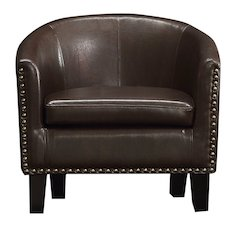chair: (5, 6, 226, 223)
